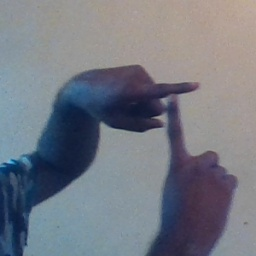T: (130, 63, 223, 181)
